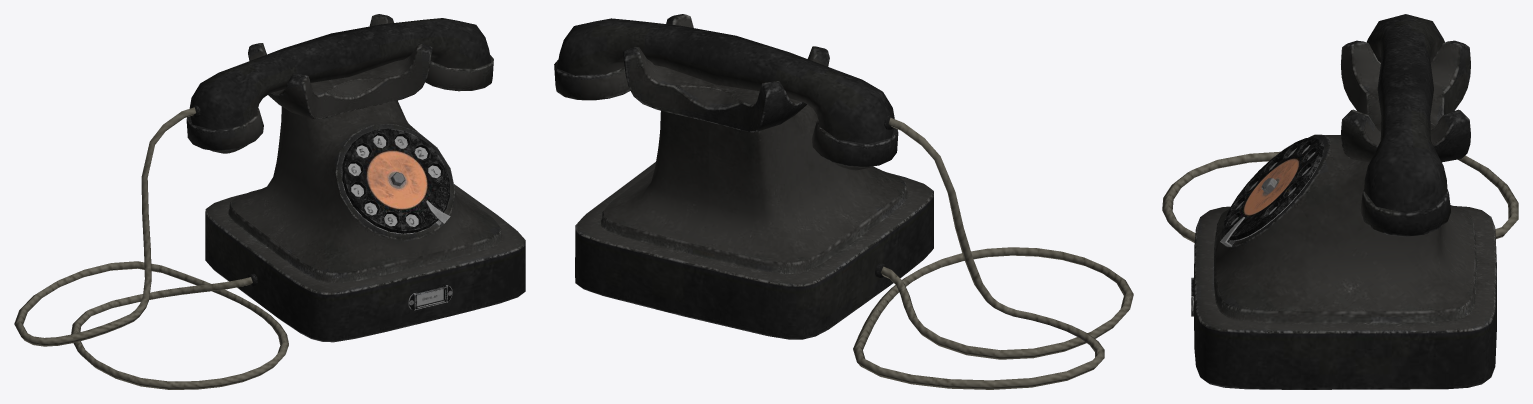
Rendered from telephone.obj.
3 views of the same model, side by side, from view 1: azimuth 30°, elevation 25°; view 2: azimuth 150°, elevation 25°; view 3: azimuth 270°, elevation 25° (orthographic). The views are drawn at different scales.
Parts seen in each view (by area): view 1: Cube.014, Cube.016, Cube.015, Cube.003, Cube.004, Cube.013, Cube.012; view 2: Cube.014, Cube.016, Cube.015, Cube.004, Cube.013; view 3: Cube.014, Cube.016, Cube.004, Cube.003, Cube.015, Cube.013.
Part boxes in pixels (box(x1,y1,x2,y2)): Cube.014: box(205, 100, 525, 342); Cube.016: box(189, 18, 491, 130); Cube.015: box(14, 107, 288, 389); Cube.003: box(342, 128, 449, 233); Cube.004: box(248, 14, 432, 119); Cube.013: box(186, 55, 493, 153); Cube.012: box(408, 285, 452, 310); Cube.014: box(575, 104, 933, 339); Cube.016: box(557, 18, 894, 144); Cube.015: box(853, 117, 1133, 389); Cube.004: box(622, 14, 829, 132); Cube.013: box(554, 60, 898, 170); Cube.014: box(1194, 134, 1496, 389); Cube.016: box(1364, 14, 1447, 212); Cube.004: box(1341, 40, 1470, 162); Cube.003: box(1223, 137, 1323, 240); Cube.015: box(1162, 151, 1518, 242); Cube.013: box(1360, 189, 1450, 236).
Size of the model in its own units: 0.3196 by 0.1442 by 0.1765.
